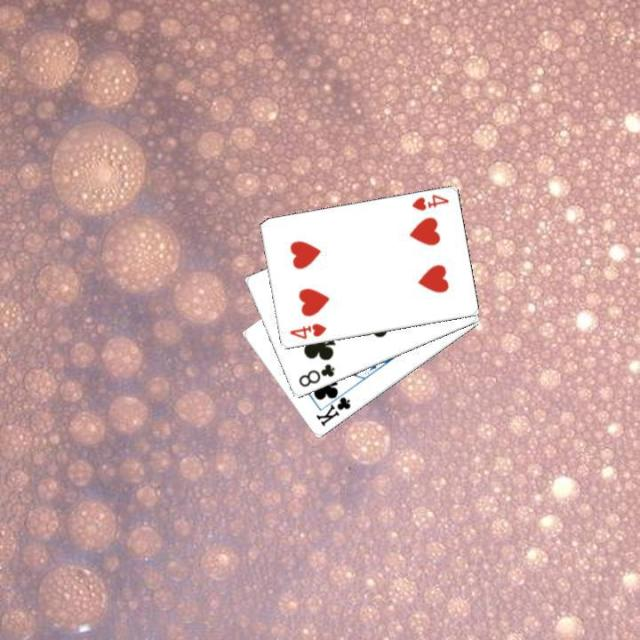4H: (408, 191, 451, 213), (285, 320, 328, 341)
8C: (294, 360, 337, 389)
KC: (312, 386, 352, 428)
